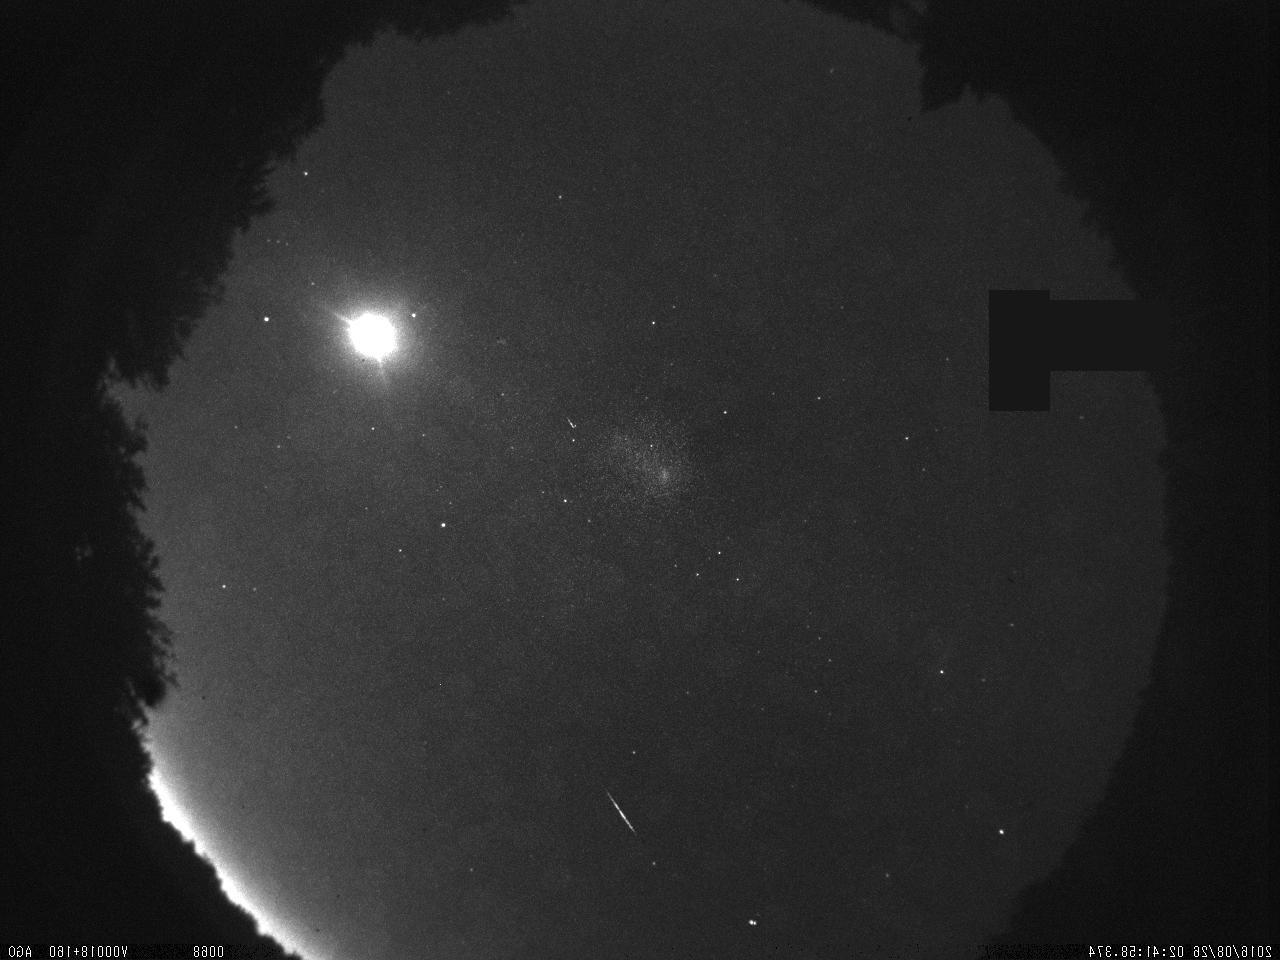meteor: (598, 776, 642, 854)
